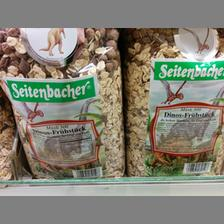Cerealien: (0, 28, 124, 180)
